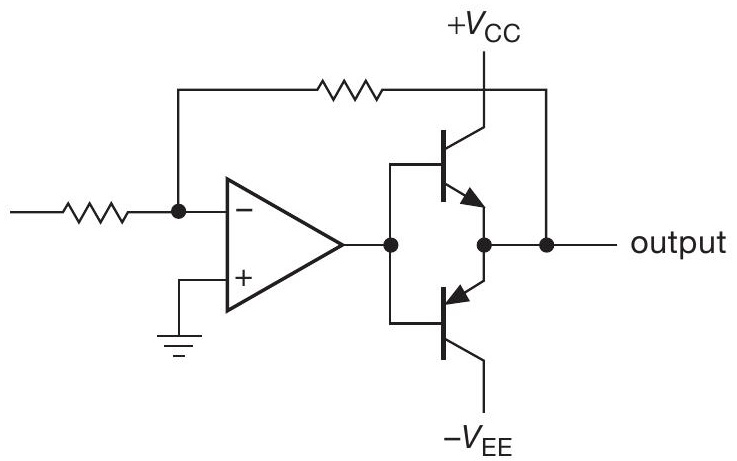gnd: (151, 327, 208, 364)
npn: (432, 117, 495, 214)
op: (213, 167, 352, 321)
pnp: (432, 270, 494, 371)
resistor: (52, 193, 137, 231), (308, 73, 391, 110)
